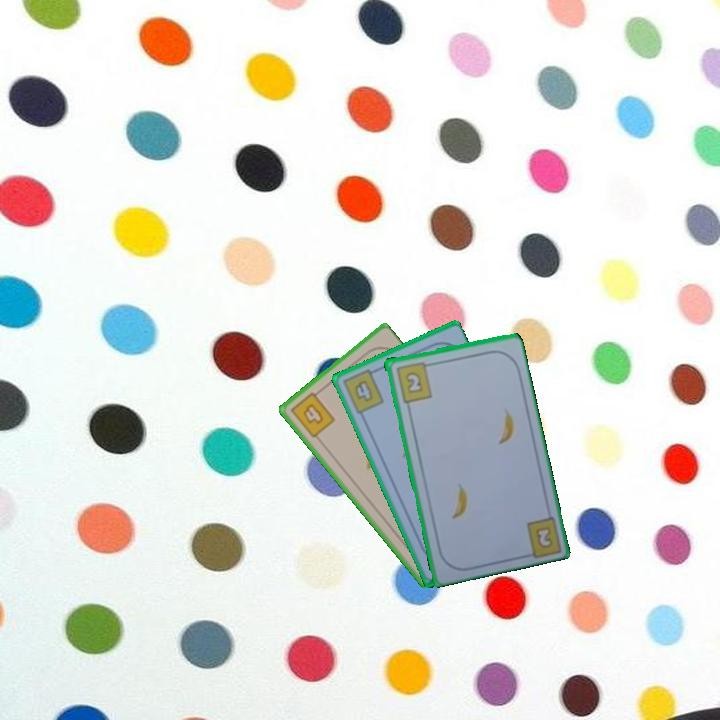2b: (392, 358, 434, 405), (534, 525, 553, 549)
4b: (287, 386, 338, 441), (339, 365, 387, 417)
